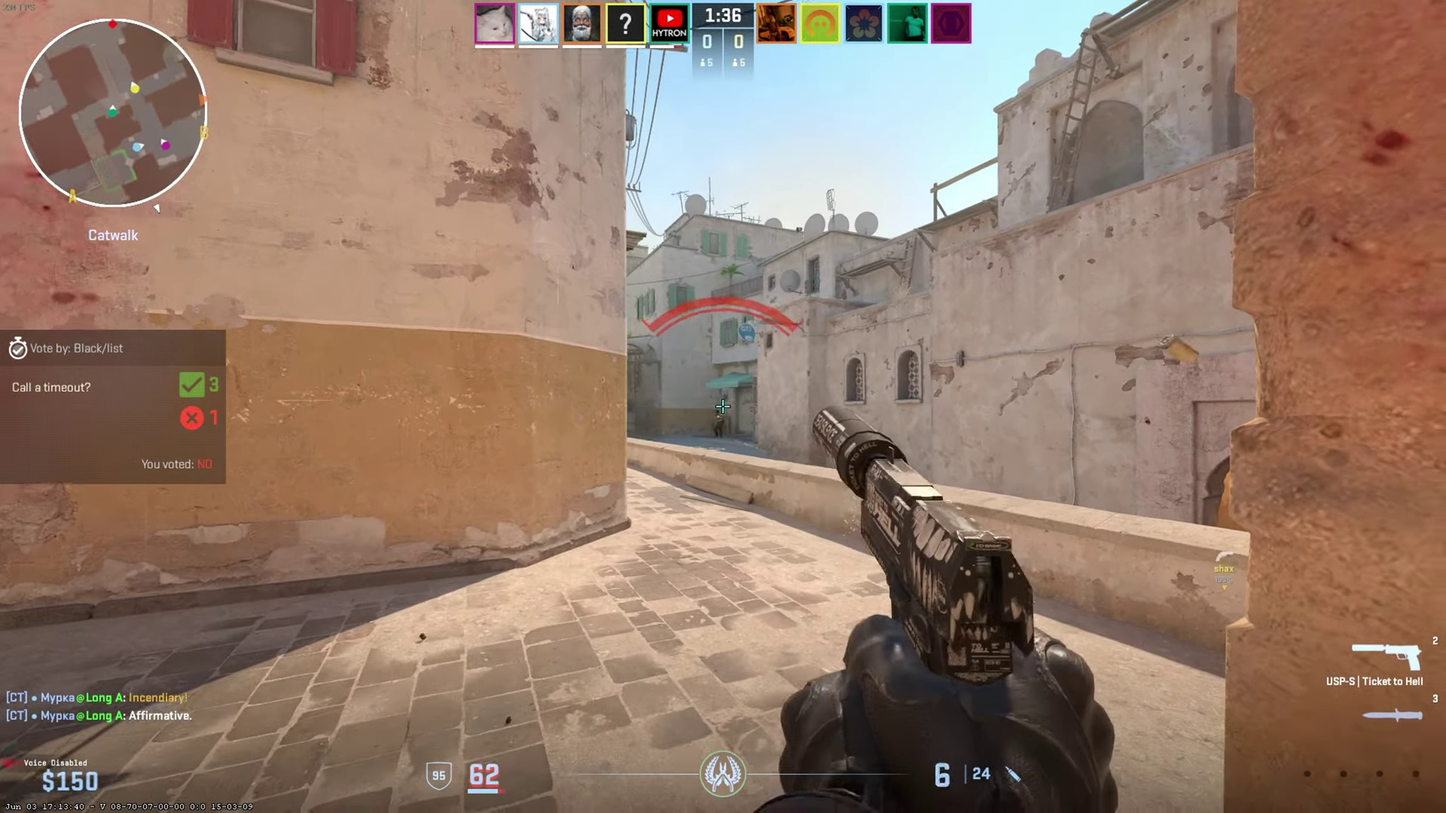Terrorist: (714, 410, 724, 438)
